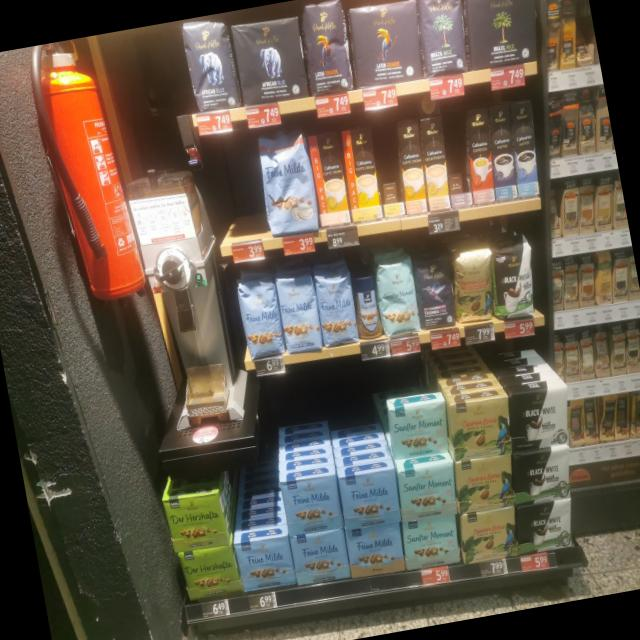AB Bohne: (178, 12, 242, 114)
AB Gemahlen: (229, 12, 310, 109)
BM Bohne: (412, 0, 474, 78)
BM Gemahlen: (459, 0, 549, 72)
BW Bohne: (489, 240, 544, 320)
BW Gemahlen: (507, 382, 579, 452), (508, 443, 578, 505), (515, 496, 580, 556)
C Fino Bohne: (410, 253, 460, 332)
Colombia BB Bohne: (447, 243, 503, 326)
Colombia BB Gemahlen: (446, 392, 518, 464), (454, 450, 519, 513), (456, 504, 523, 565)
Empty Shelf: (200, 134, 270, 246), (371, 119, 403, 204), (443, 110, 469, 192)
FM 36 Pads: (254, 128, 321, 238)
FM Bohne: (234, 274, 287, 361), (274, 268, 324, 356), (312, 268, 361, 348)
FM Gemahlen: (278, 470, 346, 537), (336, 465, 404, 528), (344, 518, 408, 580), (232, 532, 296, 593), (288, 526, 351, 586)
FM Instant: (350, 268, 384, 341)
Herzhatfe Mundig: (162, 489, 230, 555), (176, 542, 242, 602)
LG Bohne: (296, 0, 357, 97)
LG Gemahlen: (345, 0, 430, 90)
SM Bohne: (374, 255, 424, 338)
SM Gemahlen: (384, 396, 454, 461), (396, 459, 462, 522), (400, 509, 462, 572)
Simo CCMild: (340, 125, 383, 222)
Simo CCMild bigpack: (396, 116, 428, 215)
Simo CCVollmundig: (307, 130, 351, 226)
Simo Decaff: (421, 115, 450, 211)
Simo Es Brazil: (465, 106, 495, 205)
Simo Es Kraft: (487, 103, 518, 201)
Simo Es Vanilla: (509, 98, 541, 197)
